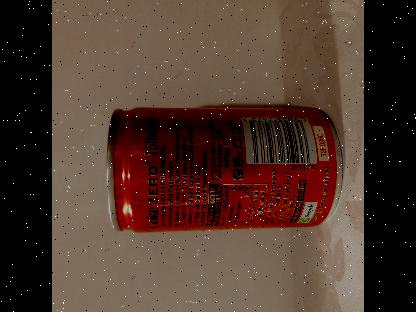Can: (106, 106, 342, 234)
